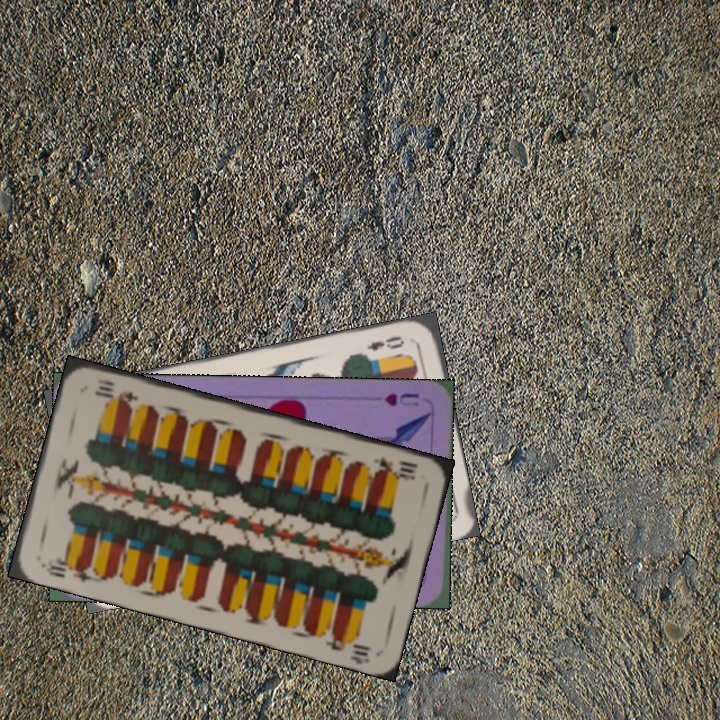E10: (36, 553, 95, 585), (370, 452, 421, 483)
EO: (363, 332, 407, 354)
HU: (380, 389, 422, 409)
